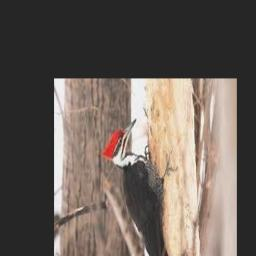Woodpecker: (101, 118, 176, 256)
